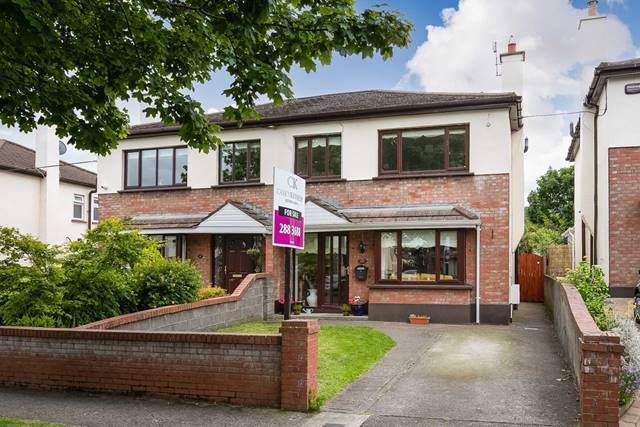property sign: (252, 162, 320, 252)
